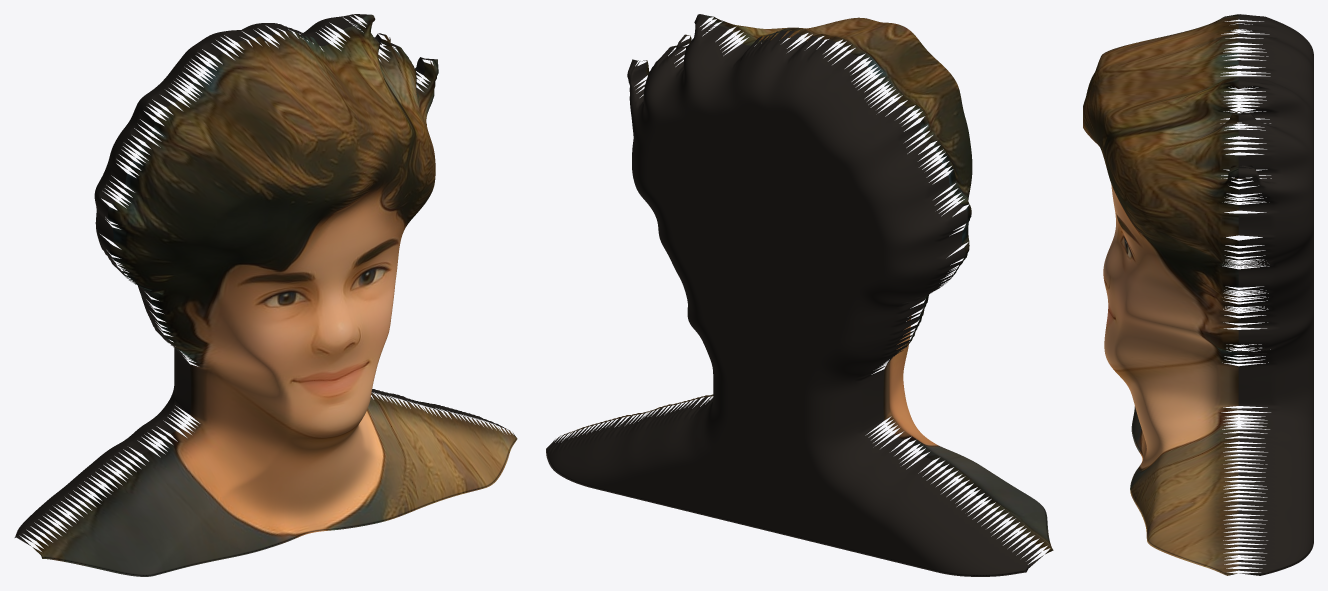
Rendered from zuhayr-bust.glb.
3 renders of one model, left to right at view 1: azimuth 30°, elevation 25°; view 2: azimuth 150°, elevation 25°; view 3: azimuth 270°, elevation 25°, orthographic. The views are drawn at different scales.
Parts seen in each view (by area): view 1: Zuhayr bust; view 2: Zuhayr bust; view 3: Zuhayr bust.
Boxes of the visible parts, x1,y1,x2,y2 form: Zuhayr bust: (14, 14, 517, 576); Zuhayr bust: (546, 14, 1053, 576); Zuhayr bust: (1083, 14, 1313, 575).
Bounding box in the file's own units: 0.9955 × 0.9079 × 0.4375.
Materials: 2 (1 with a texture image).
